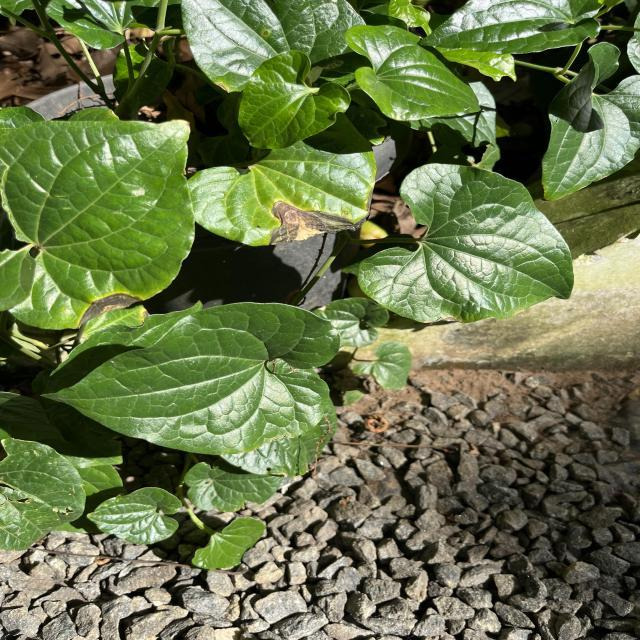Piper longum: (38, 299, 344, 456), (353, 162, 576, 326), (540, 41, 640, 202), (344, 23, 484, 123), (236, 49, 352, 151)
